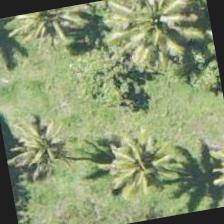Kelapa_Sawit: (86, 119, 190, 224), (0, 96, 95, 200), (83, 0, 185, 74)
